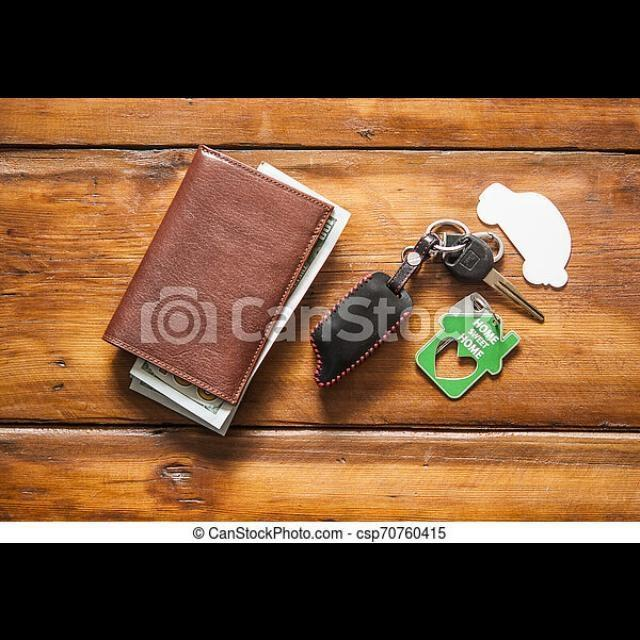Wallet: (102, 142, 338, 444)
